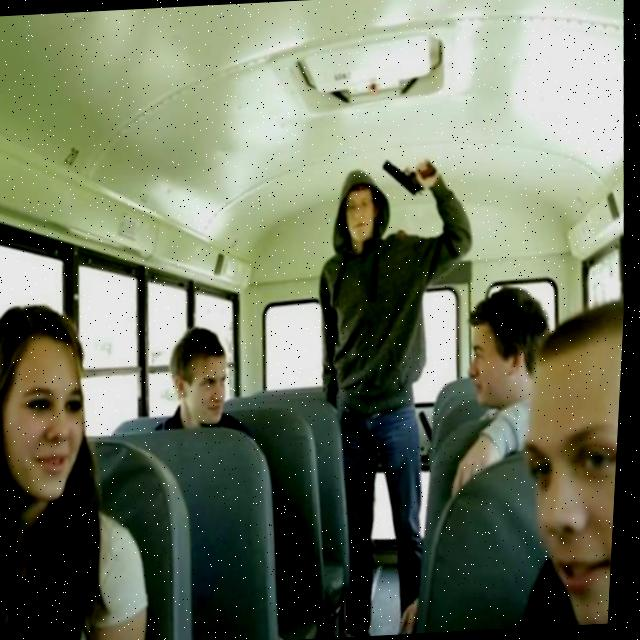pistol: (382, 156, 428, 196)
